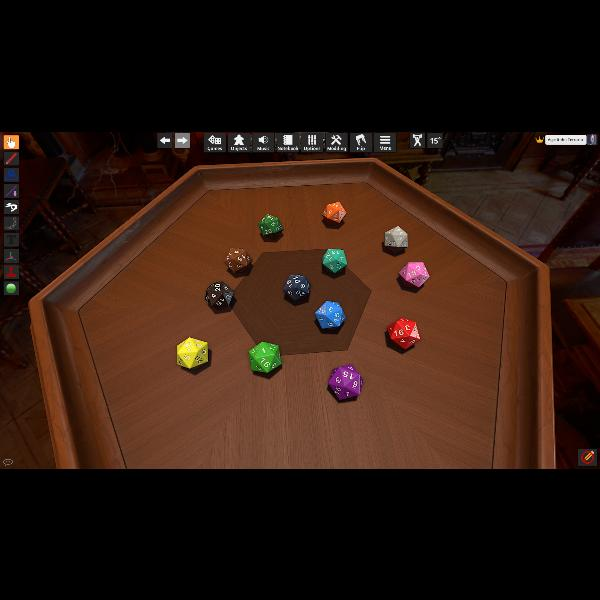d20: (327, 364, 362, 400), (248, 341, 282, 371), (388, 318, 420, 349), (178, 335, 208, 366), (205, 280, 233, 309), (314, 300, 342, 328), (398, 262, 428, 288), (225, 247, 251, 273), (284, 274, 308, 300), (322, 249, 346, 273), (258, 212, 282, 236), (384, 226, 408, 248), (322, 202, 344, 224)
